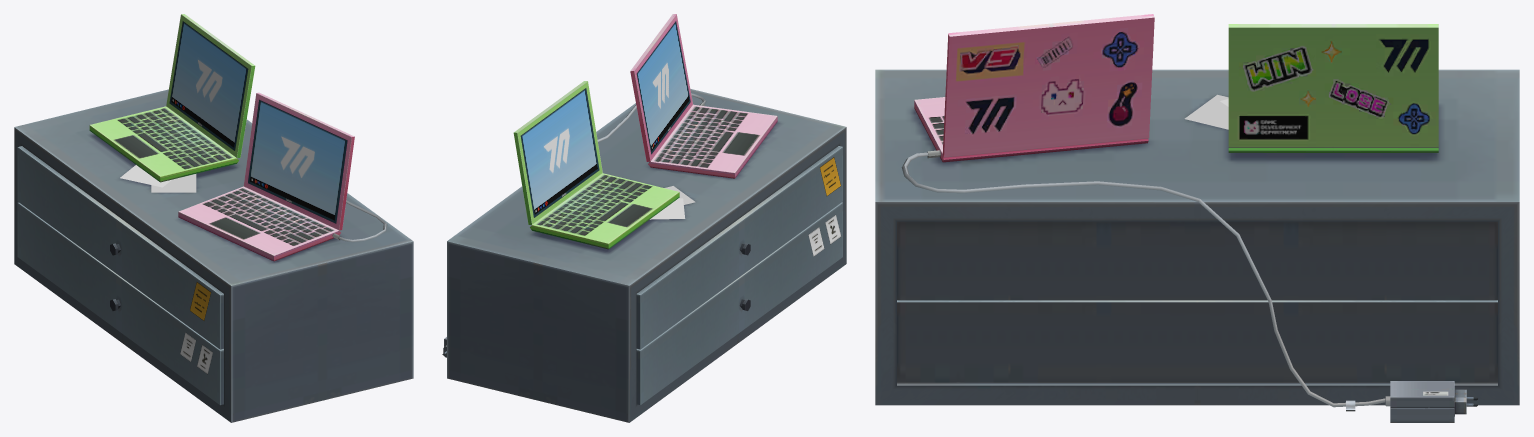
File: my_gamedevdept_01_desk_02.glb
3 views of the same model, side by side, from view 1: azimuth 30°, elevation 25°; view 2: azimuth 150°, elevation 25°; view 3: azimuth 270°, elevation 25° (orthographic). The views are drawn at different scales.
Visible parts, largest first — view 1: my_gamedevdept_01_desk_02; view 2: my_gamedevdept_01_desk_02; view 3: my_gamedevdept_01_desk_02.
Part boxes in pixels (<box>): my_gamedevdept_01_desk_02: <box>14,14,413,422</box>; my_gamedevdept_01_desk_02: <box>442,14,846,422</box>; my_gamedevdept_01_desk_02: <box>875,14,1519,422</box>.
Size of the model in its own units: 0.00584 by 0.00604 by 0.0101.
Materials: 2 (2 with a texture image).
